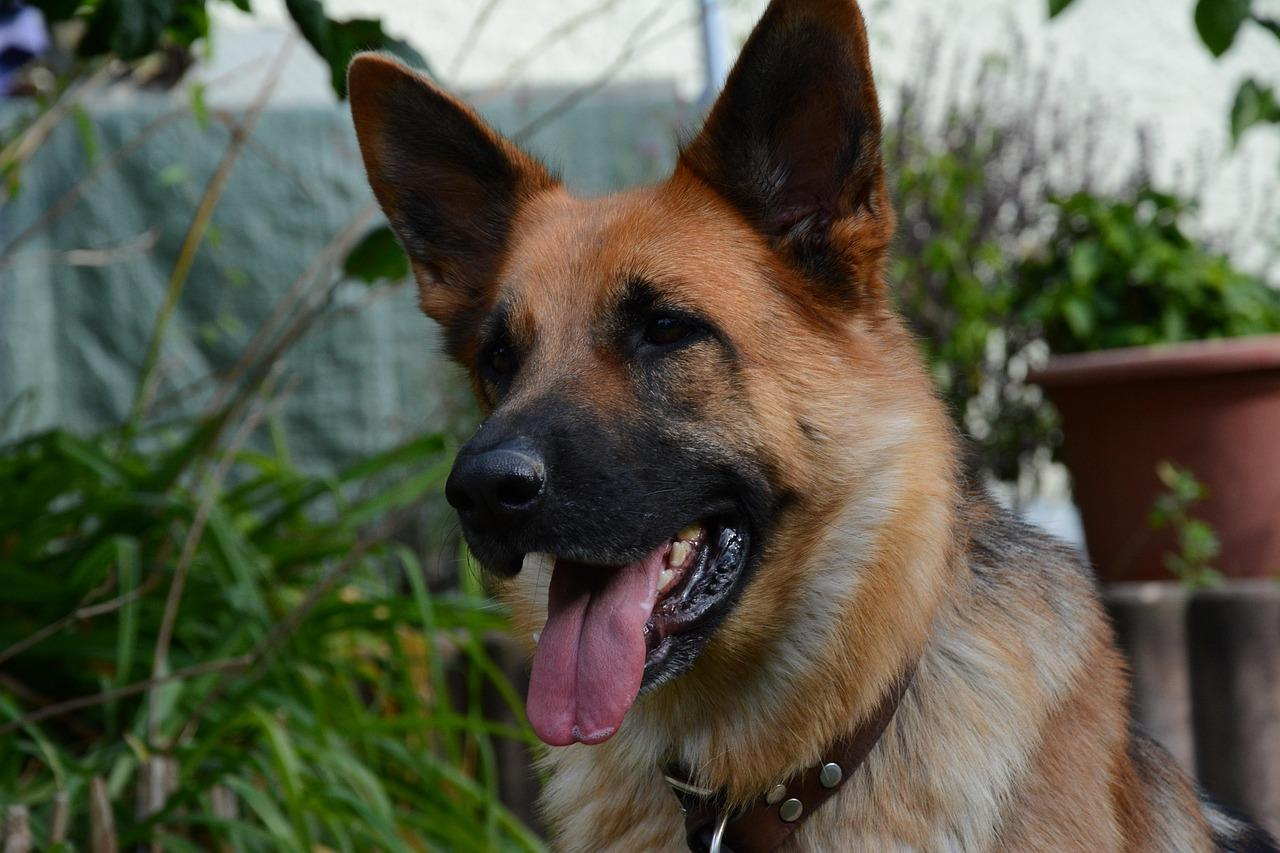german_shepherd: (337, 46, 938, 743)
